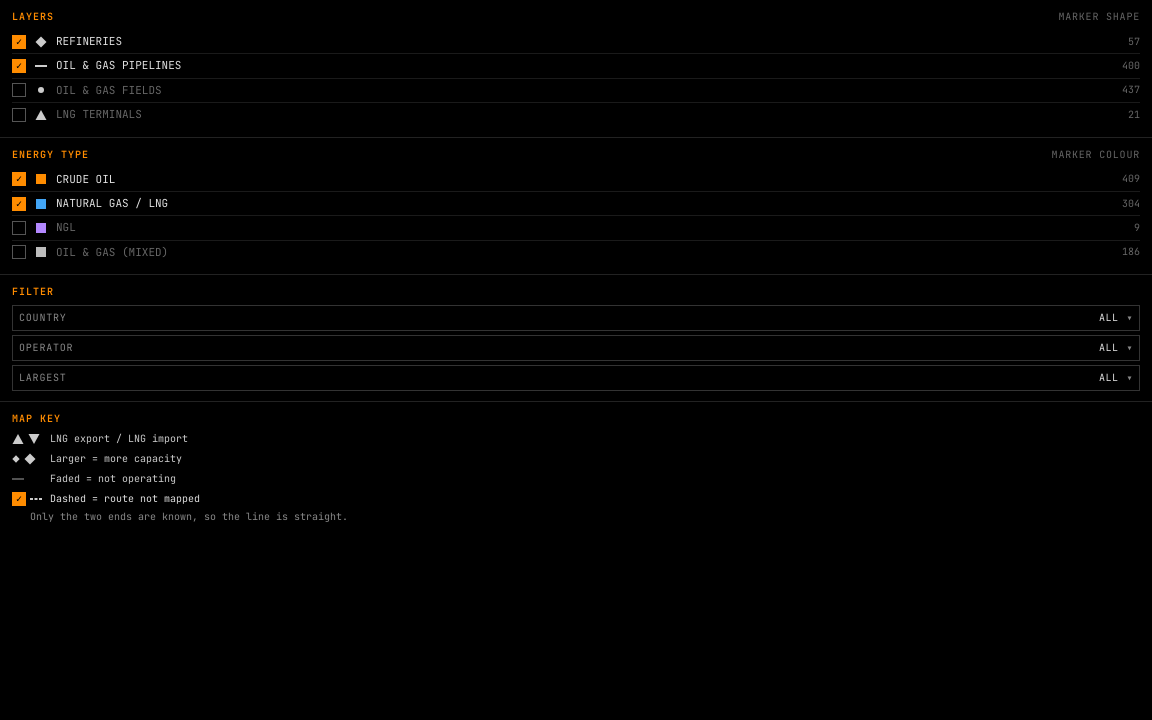
Test case: LeftRail › offers three filters: country, operator and largest per layer
Expected: the button with aria-label "COUNTRY: ALL" is shown, [12,305,1140,331]
Expected: the button with aria-label "OPERATOR: ALL" is shown, [12,335,1140,361]
Click the button with aria-label "LARGEST: ALL".
click(43, 378)  # box [12,365,1140,391]
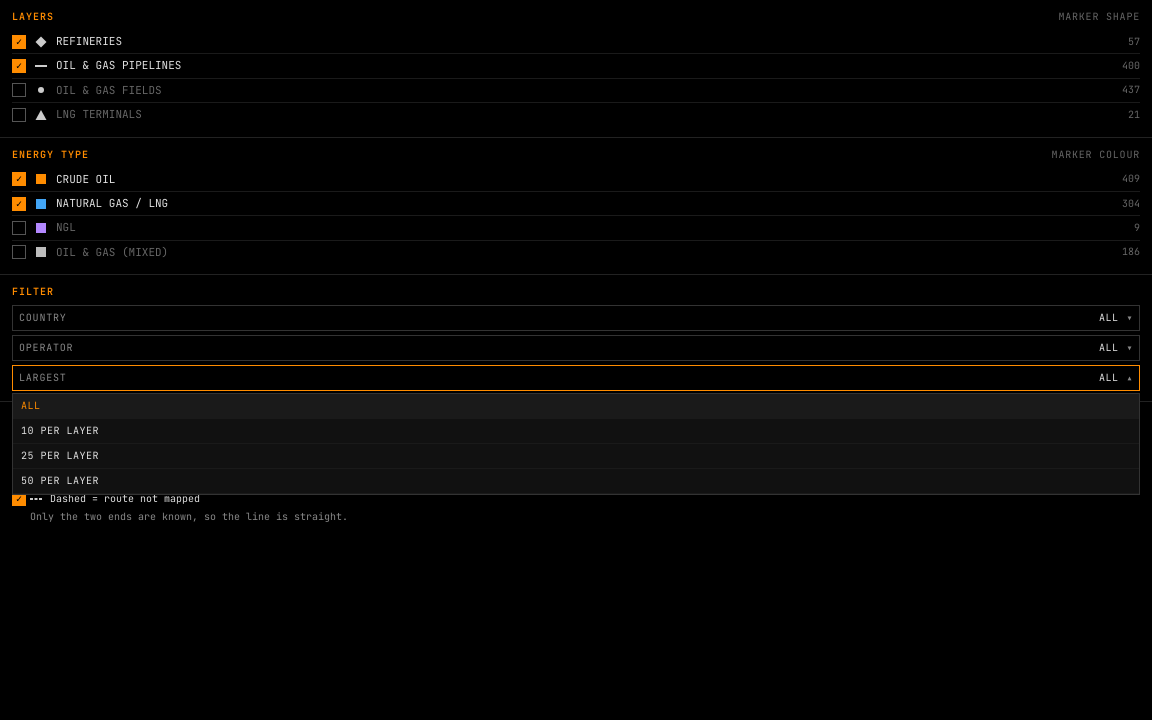
Expected: the options read "ALL", "10 PER LAYER", "25 PER LAYER", "50 PER LAYER", in this order, [13,394,1139,419]; [13,419,1139,444]; [13,444,1139,469]; [13,469,1139,494]
